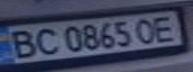0: (60, 24, 84, 53)
5: (112, 18, 136, 47)
6: (97, 19, 118, 51)
8: (78, 20, 103, 52)
B: (3, 27, 42, 60)
C: (30, 25, 63, 56)
E: (148, 12, 181, 43)
O: (130, 16, 163, 44)
